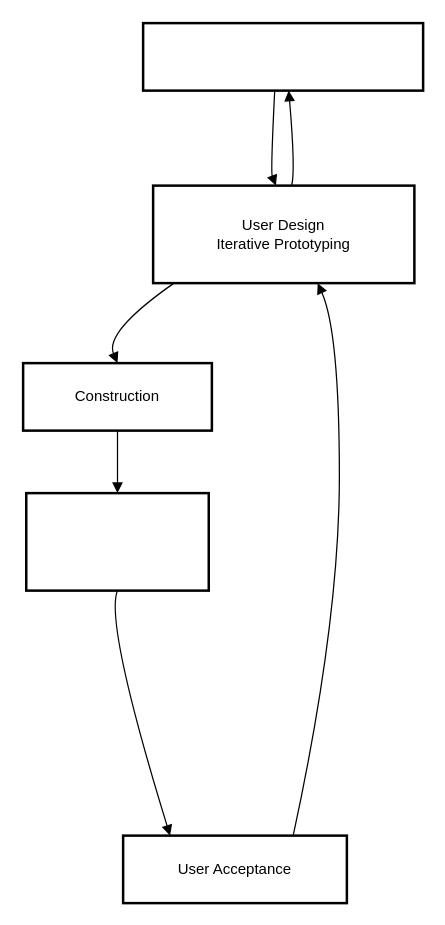
Image size: 445x925. Some labels were removed from this diagram. The box of each missing label's shape, as (x1, y1, x2, y2) in pixels:
Cutover Deployment: (24, 491, 209, 591)
Requirements Planning: (141, 21, 424, 91)
